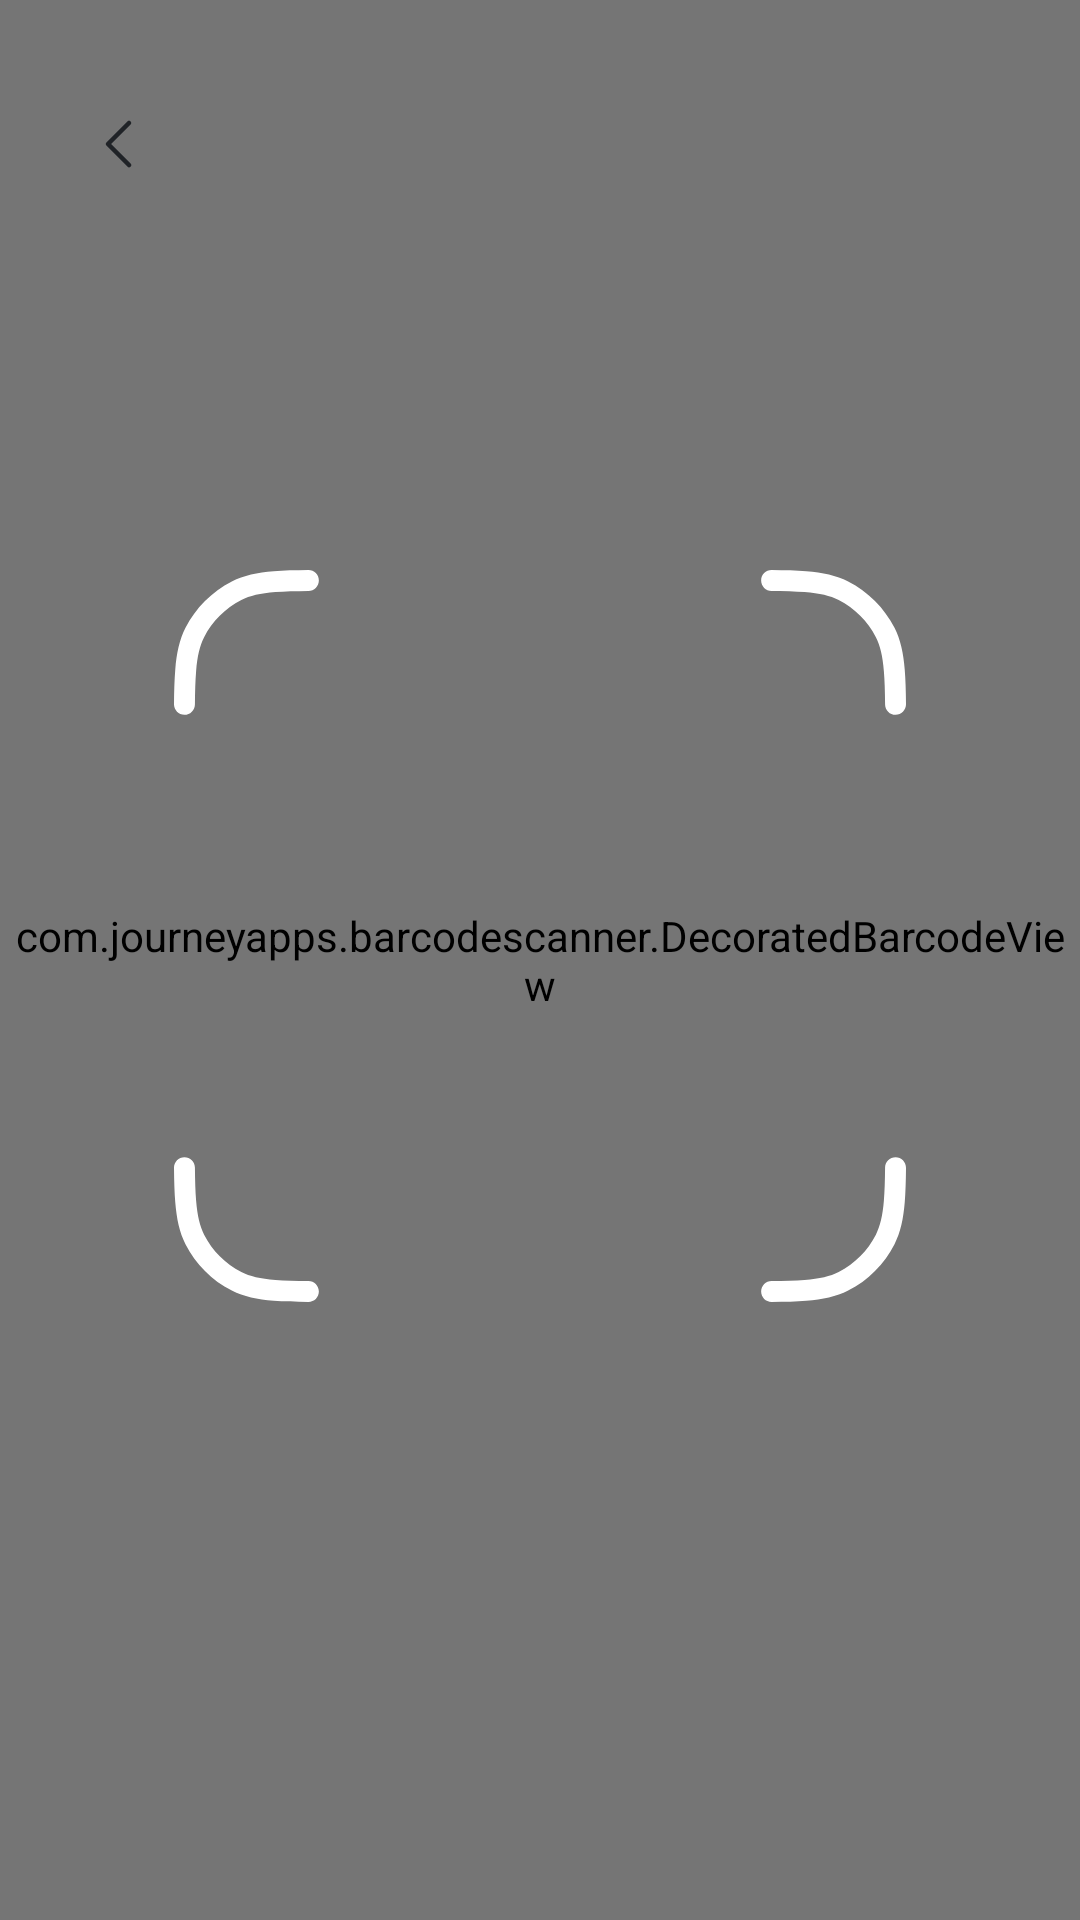

Icons on this 1080px x 1920px Android screen, each with the point to tap as point (x, y):
Close scanner: point (118, 144)
